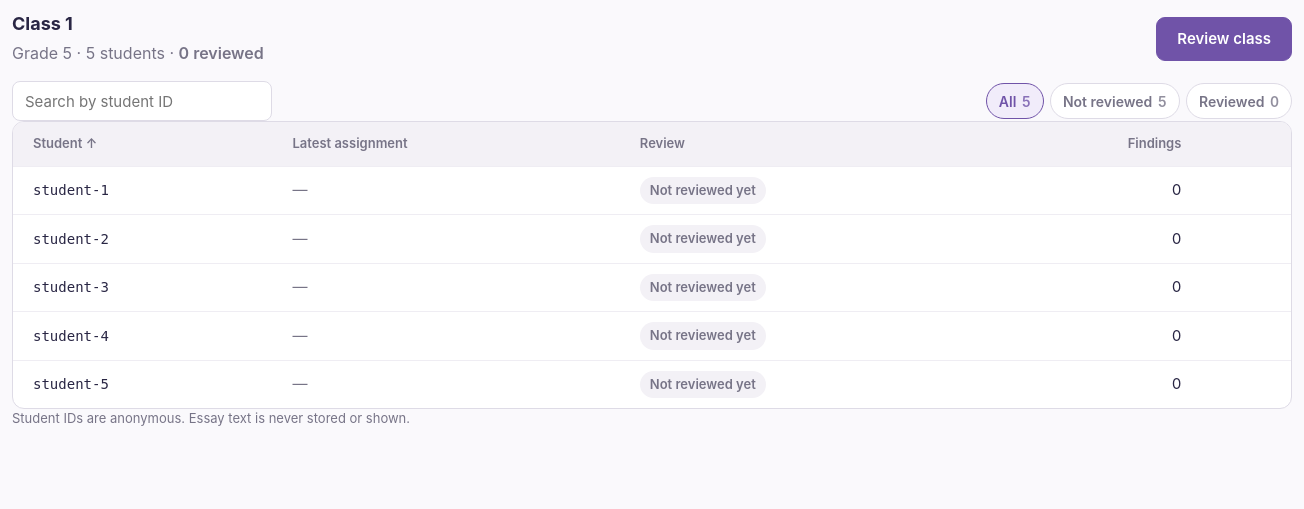
StudentsPage progress boundary tests › shows the backend's message when a review finishes with failures
The image size is (1304, 509).
Click the button "Review class" at x=1224, y=39, box [1156,17,1292,61]
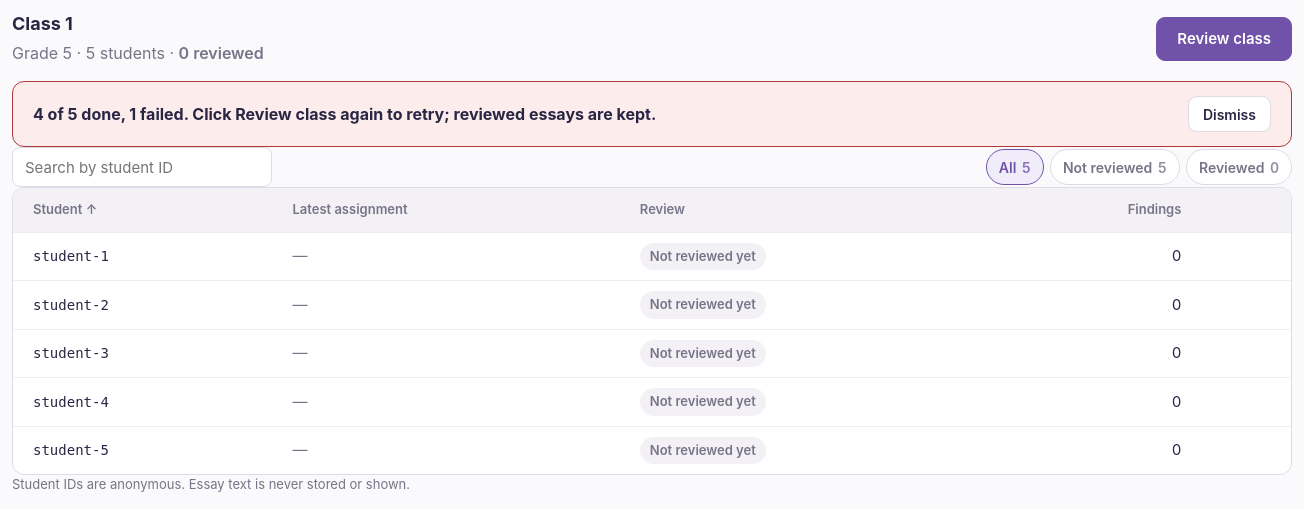
Result: the text "4 of 5 done, 1 failed" is shown at [33,104,656,124]
